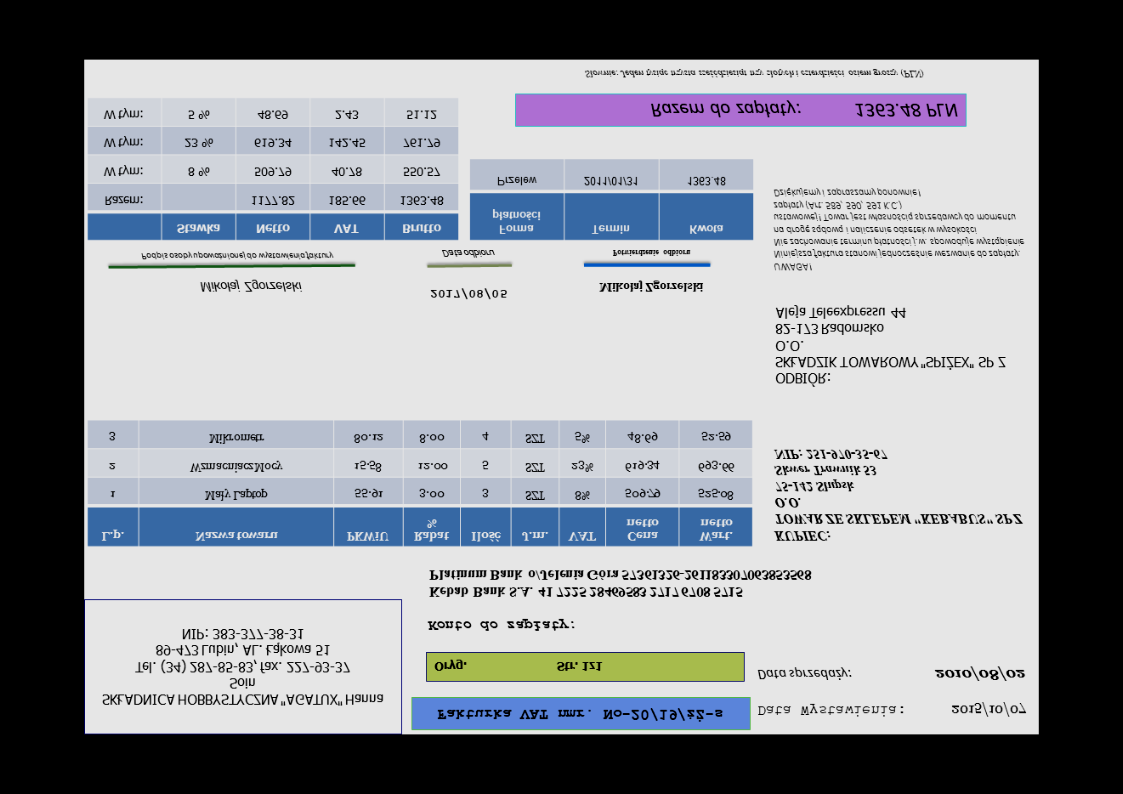Table: (86, 418, 754, 547), (85, 98, 461, 241), (468, 156, 755, 242)
TextBox: (771, 445, 1029, 546), (100, 623, 386, 709), (771, 185, 1025, 273), (773, 301, 1009, 390), (426, 567, 814, 601), (648, 98, 960, 122), (582, 66, 927, 82), (434, 706, 726, 724), (432, 656, 604, 676), (424, 616, 578, 635), (756, 700, 905, 719), (139, 251, 337, 263), (595, 278, 706, 296), (933, 663, 1027, 683), (198, 278, 306, 295), (755, 665, 853, 683), (427, 284, 508, 304), (949, 700, 1028, 719), (609, 247, 692, 259), (440, 247, 497, 260)
